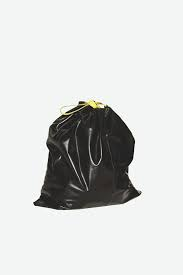Trash: (24, 91, 150, 218)
